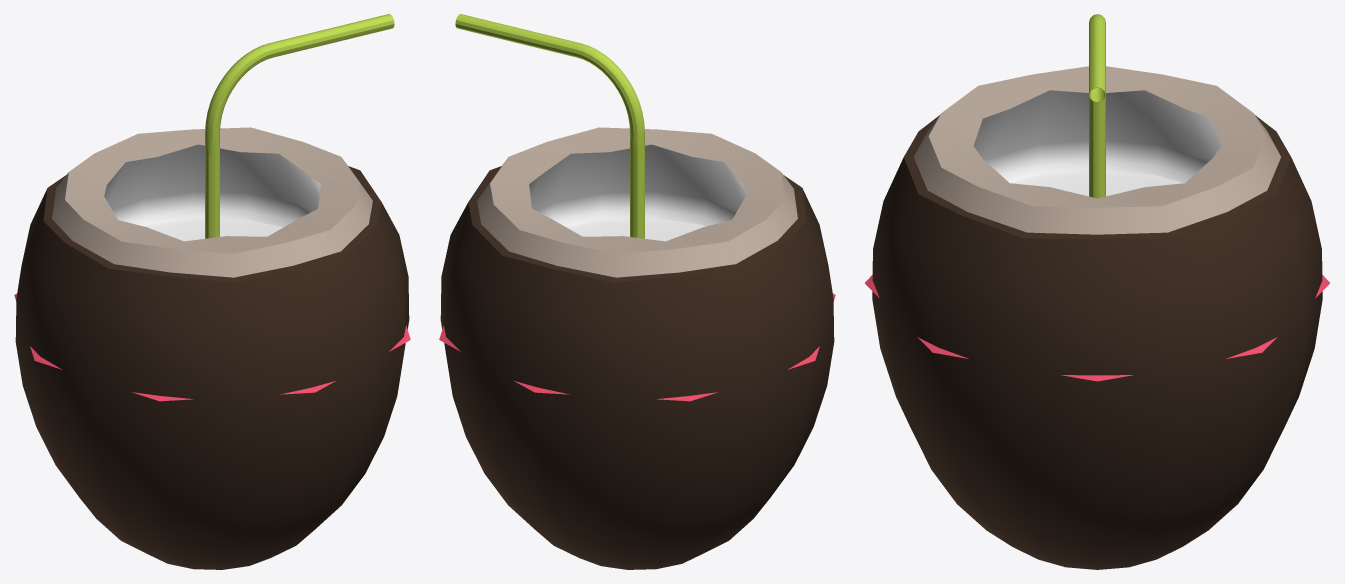
File: CoconutOpen.fbx
3 renders of one model, left to right at view 1: azimuth 30°, elevation 25°; view 2: azimuth 150°, elevation 25°; view 3: azimuth 270°, elevation 25°, orthographic. The views are drawn at different scales.
Parts seen in each view (by area): view 1: CoconutOpen, Straw, CocktailUmbrella; view 2: CoconutOpen, Straw, CocktailUmbrella; view 3: CoconutOpen, Straw, CocktailUmbrella.
Part boxes in pixels (box(x1,y1,x2,y2)): CoconutOpen: box(15, 127, 409, 569); Straw: box(205, 14, 394, 238); CocktailUmbrella: box(14, 293, 410, 401); CoconutOpen: box(440, 127, 834, 569); Straw: box(455, 14, 644, 238); CocktailUmbrella: box(439, 293, 835, 401); CoconutOpen: box(872, 66, 1322, 569); Straw: box(1089, 14, 1105, 198); CocktailUmbrella: box(865, 275, 1329, 381).
Size of the model in its own units: 17.45 by 23.33 by 17.42.
